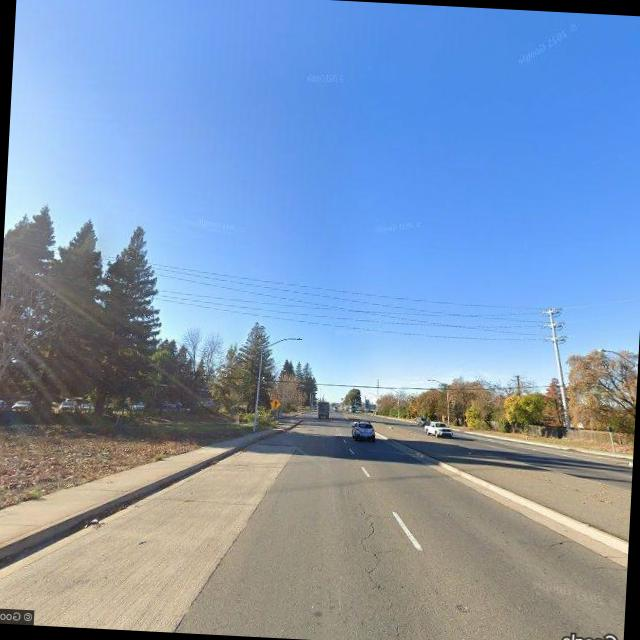pothole: (349, 493, 412, 640)
